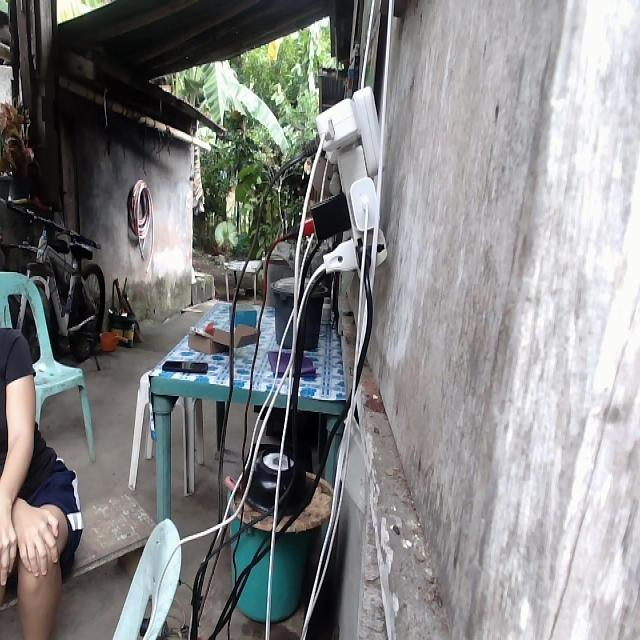-: (287, 83, 386, 276)
